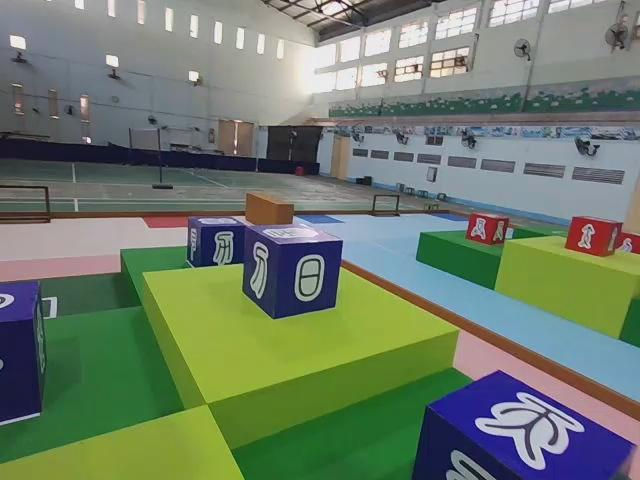R2 Fake Blue: (412, 372, 637, 480), (241, 224, 343, 321), (188, 218, 249, 271)
